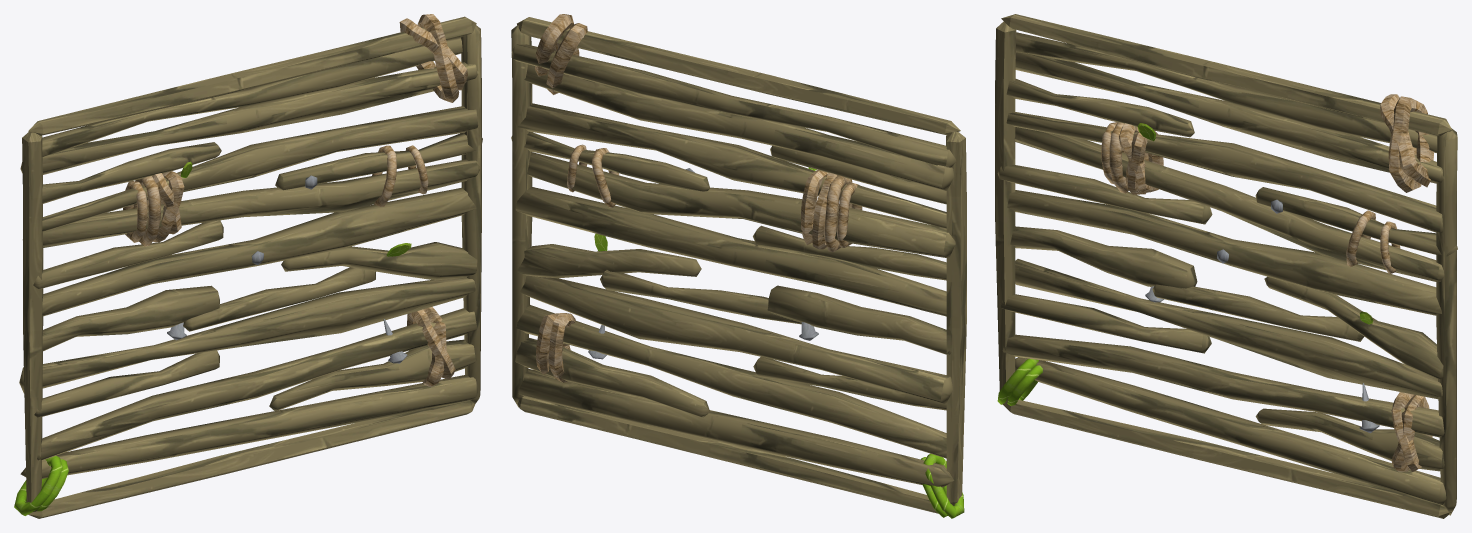
The model's file is Floor.FBX.
3 renders of one model, left to right at view 1: azimuth 30°, elevation 25°; view 2: azimuth 150°, elevation 25°; view 3: azimuth 330°, elevation 25°, orthographic.
Parts seen in each view (by area): view 1: Wall003; view 2: Wall003; view 3: Wall003.
Part boxes in pixels (x1,y1,x2,y2): Wall003: (14, 14, 482, 518); Wall003: (511, 14, 966, 518); Wall003: (995, 14, 1457, 518).
Bounding box in the file's own units: 6.09 × 5.2 × 0.7491.
